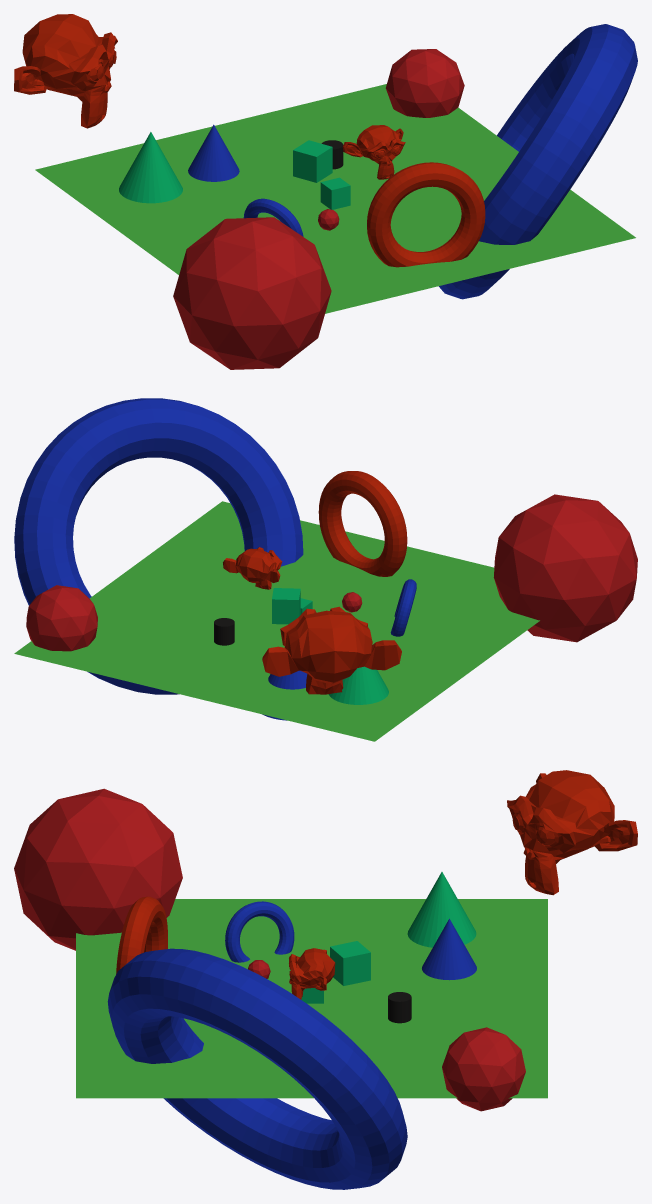
3 views of the same model, one above another, from view 1: azimuth 30°, elevation 25°; view 2: azimuth 150°, elevation 25°; view 3: azimuth 270°, elevation 25° (orthographic). The views are drawn at different scales.
Visible parts, largest first — view 1: Grid, Torus.002, Icosphere.002_Icosphere.001, Suzanne.001, Torus.001, Icosphere.001_Icosphere, Cone.001, Suzanne, Cone, Cube.001_Cube, Torus, Cube; view 2: Grid, Torus.002, Icosphere.002_Icosphere.001, Suzanne.001, Torus.001, Icosphere.001_Icosphere, Suzanne, Cone.001, Cube.001_Cube, Torus, Cone, Cylinder; view 3: Grid, Torus.002, Icosphere.002_Icosphere.001, Suzanne.001, Icosphere.001_Icosphere, Cone.001, Torus.001, Torus, Cone, Suzanne, Cube.001_Cube, Cylinder.
Boxes of the visible parts, x1,y1,x2,y2 form: Grid: [35, 84, 635, 313]; Torus.002: [439, 24, 637, 299]; Icosphere.002_Icosphere.001: [173, 217, 331, 369]; Suzanne.001: [14, 14, 117, 128]; Torus.001: [367, 162, 485, 267]; Icosphere.001_Icosphere: [385, 49, 464, 117]; Cone.001: [119, 132, 182, 203]; Suzanne: [342, 125, 405, 179]; Cone: [188, 124, 239, 181]; Cube.001_Cube: [293, 140, 332, 182]; Torus: [243, 198, 303, 236]; Cube: [320, 177, 350, 209]; Grid: [14, 501, 539, 741]; Torus.002: [14, 398, 303, 694]; Icosphere.002_Icosphere.001: [493, 494, 637, 642]; Suzanne.001: [262, 606, 401, 694]; Torus.001: [318, 471, 407, 576]; Icosphere.001_Icosphere: [26, 585, 97, 651]; Suzanne: [223, 547, 282, 589]; Cone.001: [328, 666, 388, 704]; Cube.001_Cube: [272, 588, 300, 624]; Torus: [390, 579, 416, 636]; Cone: [262, 670, 307, 720]; Cylinder: [214, 618, 234, 645]; Grid: [76, 899, 547, 1098]; Torus.002: [107, 948, 407, 1189]; Icosphere.002_Icosphere.001: [14, 788, 182, 950]; Suzanne.001: [507, 770, 637, 895]; Icosphere.001_Icosphere: [442, 1027, 525, 1111]; Cone.001: [407, 872, 476, 947]; Torus.001: [116, 896, 167, 974]; Torus: [225, 901, 294, 962]; Cone: [422, 918, 476, 980]; Suzanne: [289, 948, 335, 999]; Cube.001_Cube: [330, 941, 370, 985]; Cylinder: [388, 992, 411, 1023].
Size of the model in its own units: 56.11 by 25.11 by 52.88.
